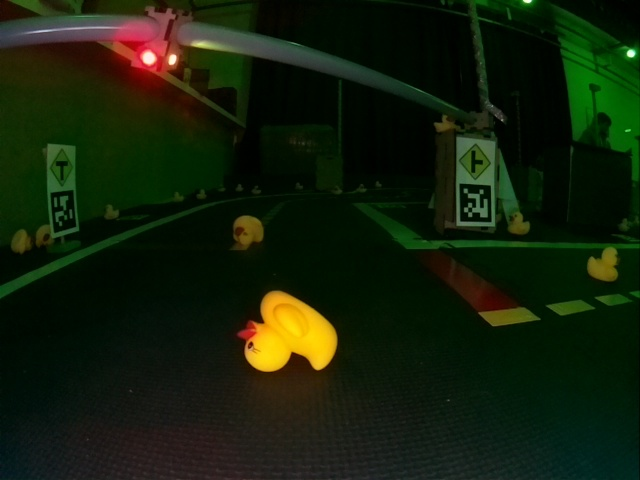Duckie: (242, 291, 337, 372), (588, 248, 619, 281), (233, 215, 264, 244), (10, 230, 31, 255), (509, 213, 529, 234), (37, 225, 54, 246), (434, 115, 453, 131), (105, 204, 118, 219), (173, 192, 183, 201), (235, 183, 244, 192), (252, 185, 261, 194), (217, 184, 226, 193), (358, 184, 366, 194), (333, 186, 341, 195), (295, 183, 304, 191), (197, 189, 205, 197)
Intersection sign: (456, 139, 494, 179), (47, 146, 75, 188)
QR code: (458, 185, 493, 225), (50, 191, 75, 235)
Traffic light: (131, 6, 189, 72)
